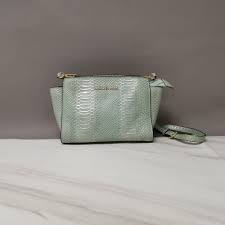cartera: (30, 61, 216, 150)
cuero: (79, 89, 139, 129)
